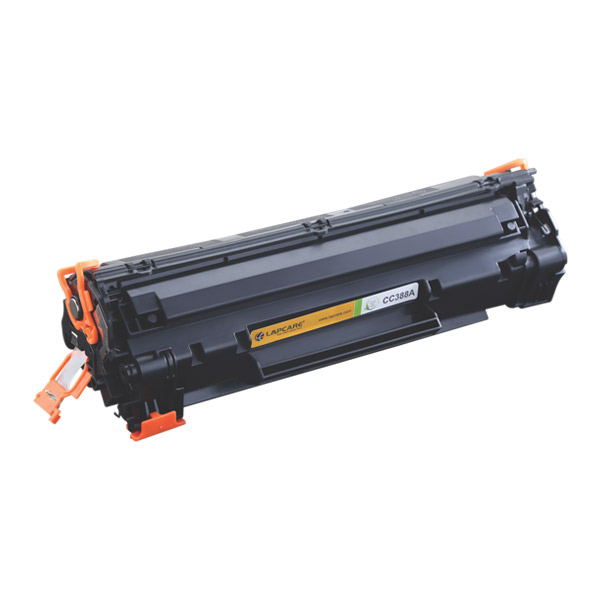Nonrec_Other: (3, 129, 583, 430)
